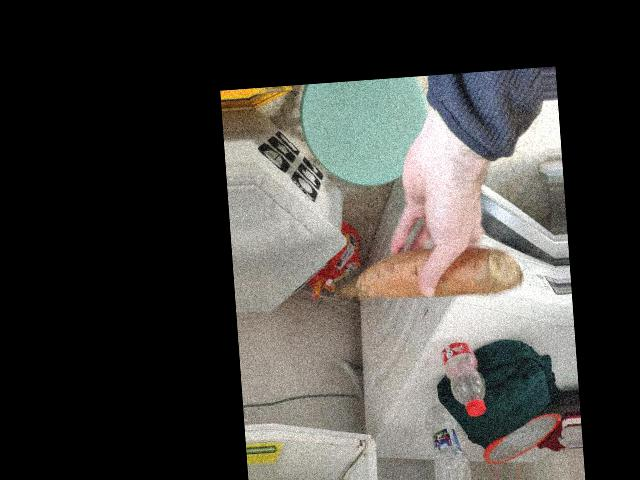sweet_potato: (346, 244, 506, 303)
